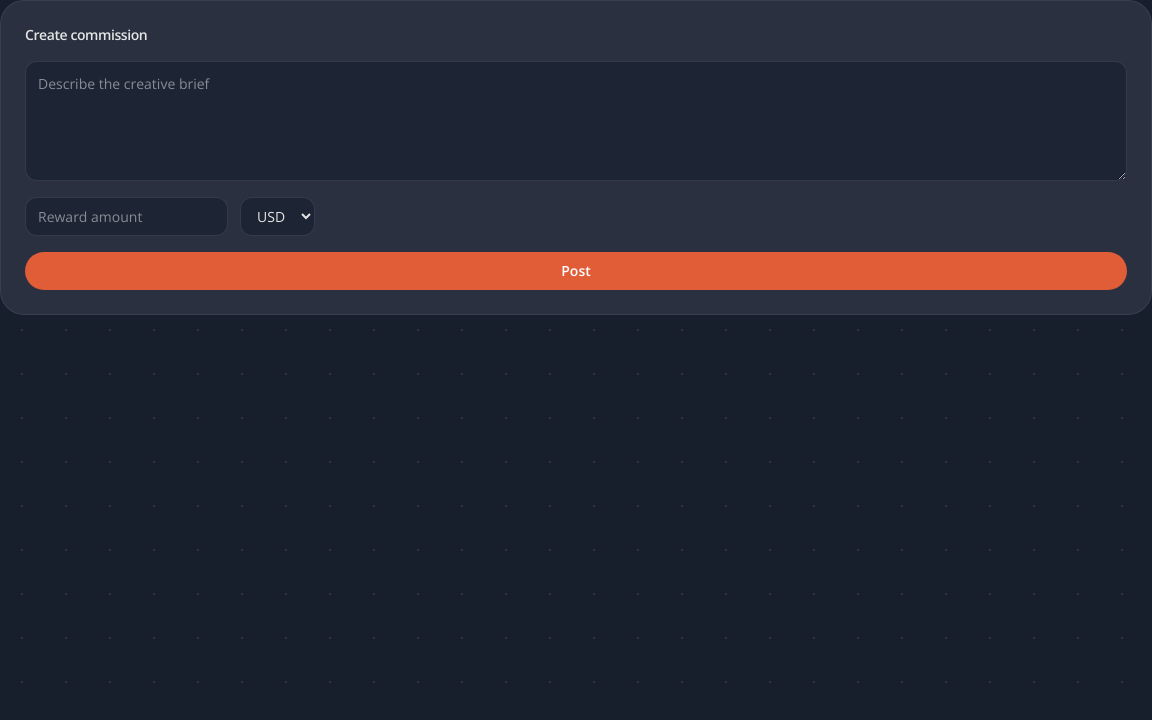
Test: CommissionForm › submits commission and resets fields
This screenshot has width=1152, height=720.
Type "Landing page concept" into the text box with placeholder "Describe the creative brief". click: (576, 121)
box: [25,61,1127,181]
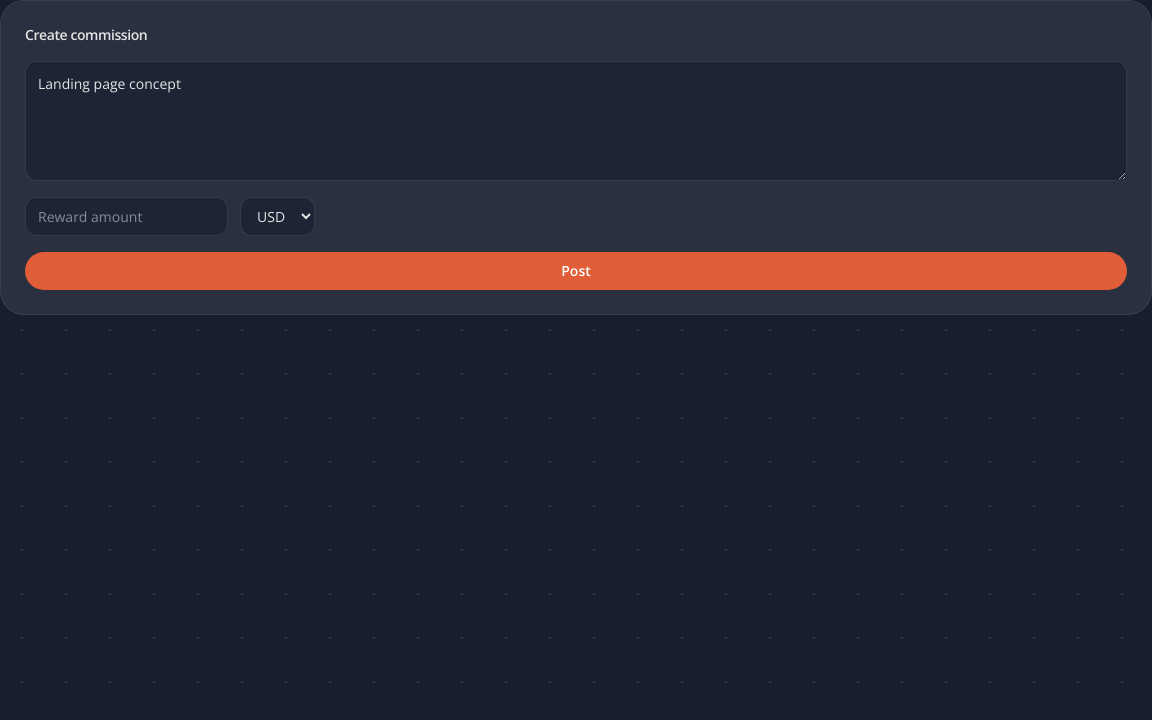
Type "200" into the field with placeholder "Reward amount". click: (126, 216)
box: [25,197,228,236]
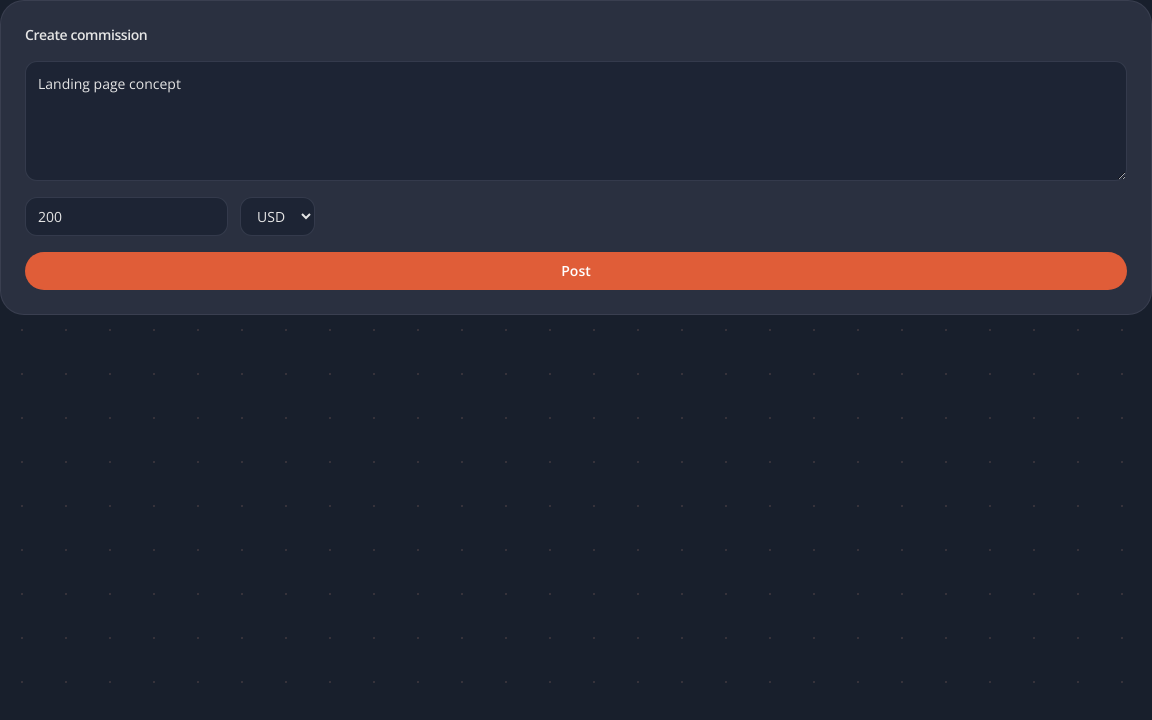
Select "EUR" in the dropdown showing "USD". click: (278, 216)
box: [240,197,315,236]
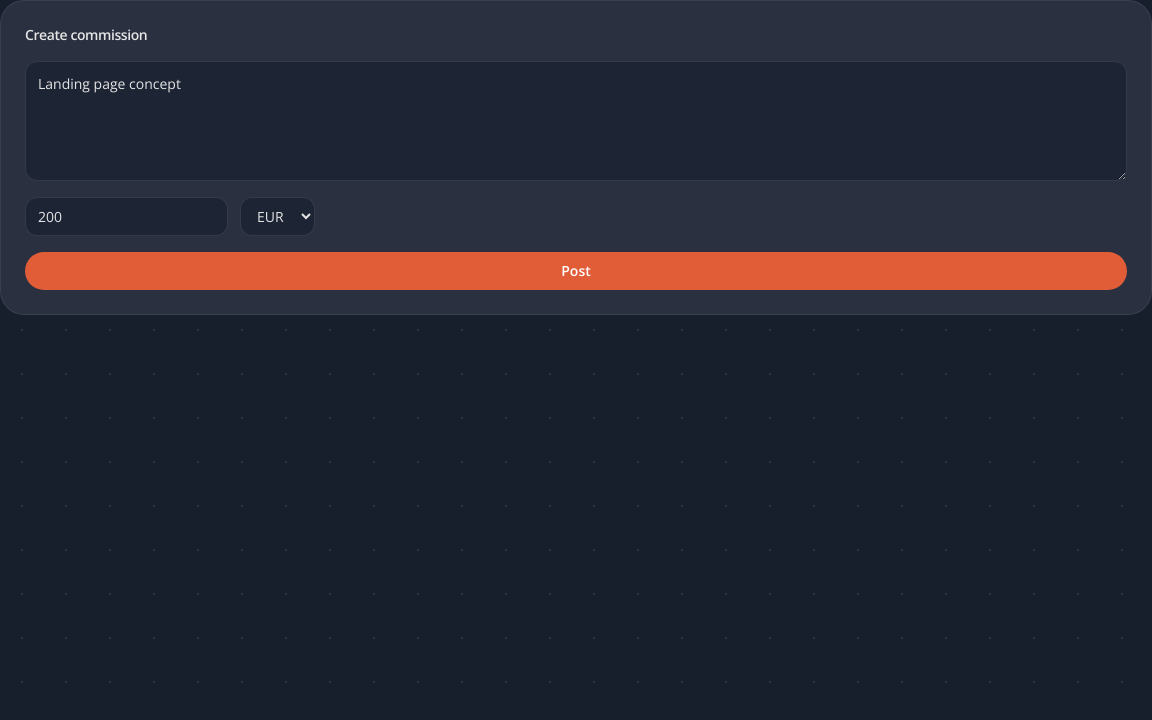
Click the button "Post". click: (576, 271)
box: [25,252,1127,290]
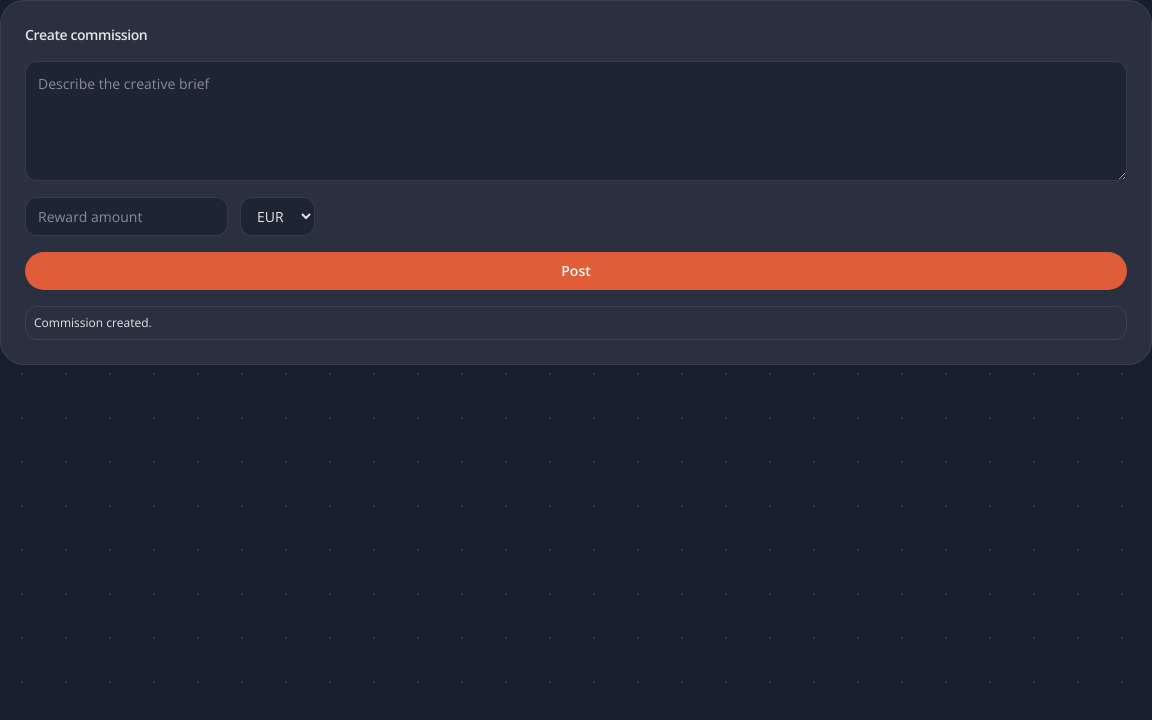
Expected: the text "Commission created." is shown, [25,306,1127,340]
Expected: the text box with placeholder "Describe the creative brief" is empty, [25,61,1127,181]
Expected: the field with placeholder "Reward amount" is empty, [25,197,228,236]
